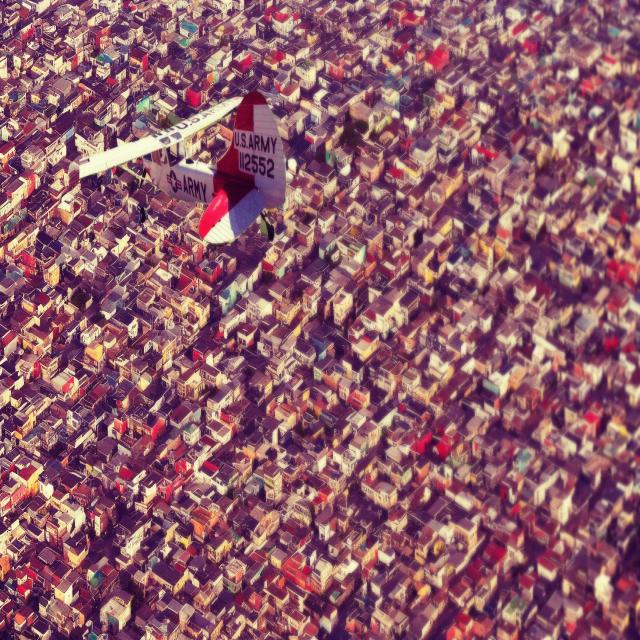airplane: (76, 88, 286, 246)
